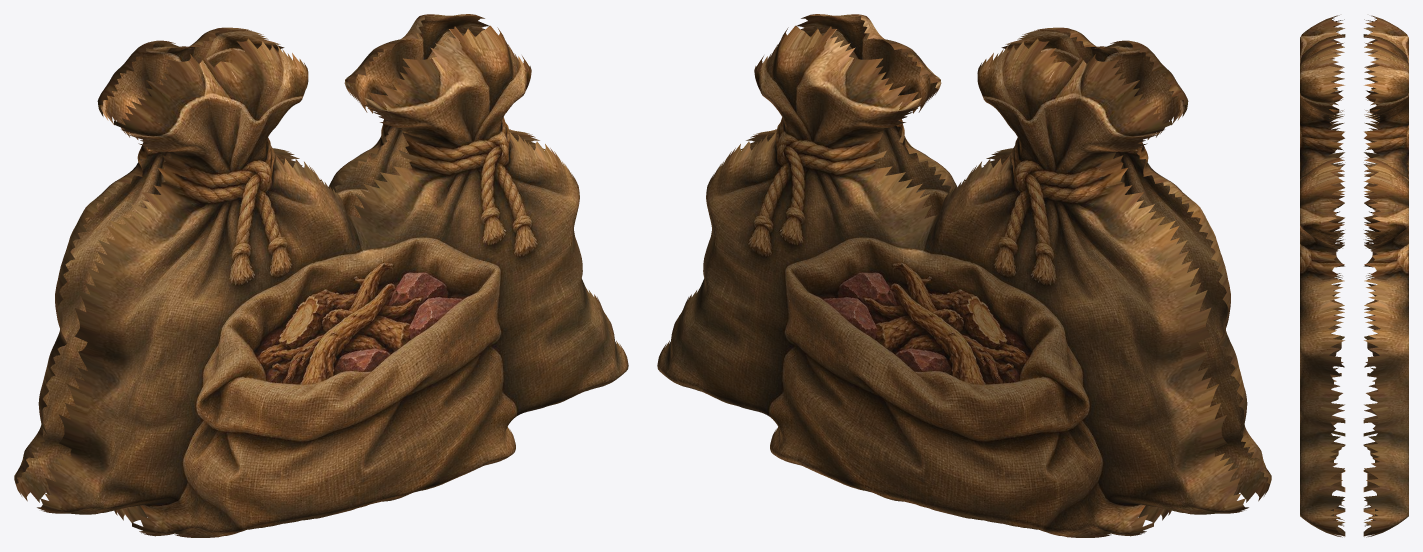
Rendered from v4-alchemist-scatter-dress-reagent-sacks.glb.
3 views of the same model, side by side, from view 1: azimuth 30°, elevation 25°; view 2: azimuth 150°, elevation 25°; view 3: azimuth 270°, elevation 25° (orthographic). The views are drawn at different scales.
Parts seen in each view (by area): view 1: v4-alchemist-scatter-dress-reagent-sacks; view 2: v4-alchemist-scatter-dress-reagent-sacks; view 3: v4-alchemist-scatter-dress-reagent-sacks.
Boxes of the visible parts, box(x1,y1,x2,y2) form: v4-alchemist-scatter-dress-reagent-sacks: box(14, 14, 628, 537); v4-alchemist-scatter-dress-reagent-sacks: box(657, 14, 1271, 537); v4-alchemist-scatter-dress-reagent-sacks: box(1300, 15, 1408, 537).
Bounding box in the file's own units: 1.23 × 0.9835 × 0.24.
Materials: 1 (1 with a texture image).
